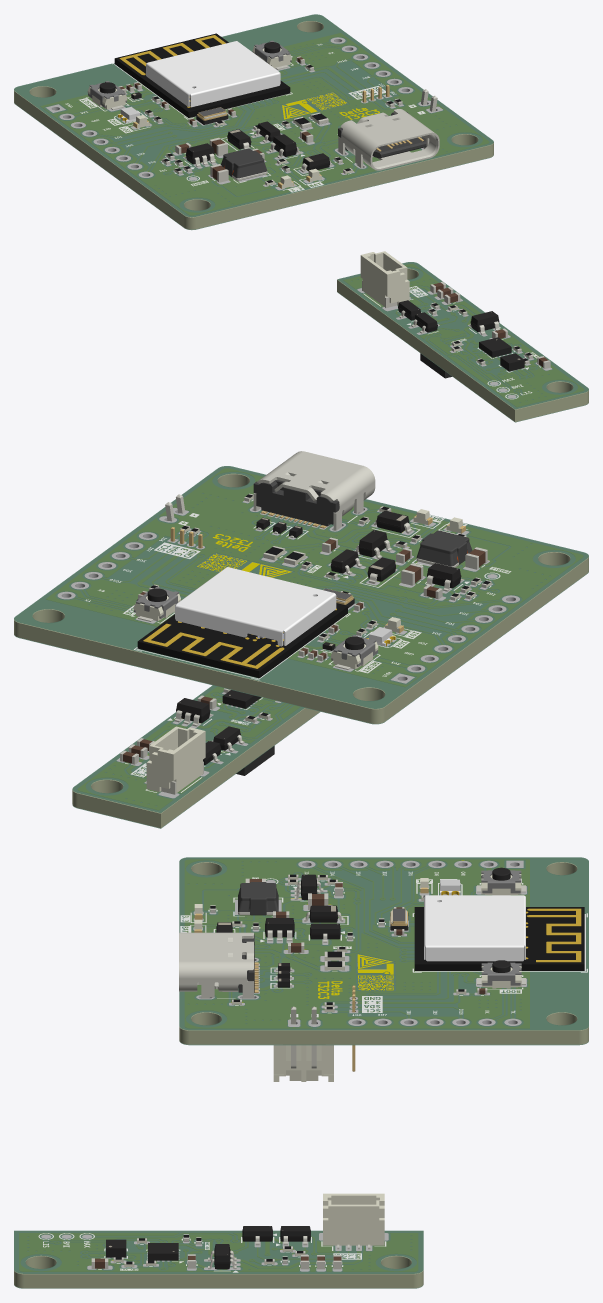
The model's file is deltat32.glb.
3 renders of one model, top to bottom at view 1: azimuth 30°, elevation 25°; view 2: azimuth 150°, elevation 25°; view 3: azimuth 270°, elevation 25°, orthographic. The views are drawn at different scales.
Parts seen in each view (by area): view 1: c3_soldermask_top, c3_pcb, c3_copper, U1, bmi_soldermask_top, bmi_pcb, J3, bmi_copper, c3_pads, J41, c3_silkscreen_top, L1 (+5 smaller); view 2: c3_soldermask_top, c3_pcb, c3_copper, U1, bmi_soldermask_top, J3, bmi_pcb, c3_pads, J41, bmi_copper, c3_silkscreen_top, L1 (+10 smaller); view 3: c3_soldermask_top, c3_pcb, c3_copper, bmi_soldermask_top, U1, bmi_pcb, bmi_copper, J3, c3_pads, J41, J2, c3_silkscreen_top (+10 smaller).
Part boxes in pixels (<box>): c3_soldermask_top: <box>14,14,493,217</box>; c3_pcb: <box>14,15,493,229</box>; c3_copper: <box>41,33,488,214</box>; U1: <box>114,33,290,117</box>; bmi_soldermask_top: <box>337,262,588,409</box>; bmi_pcb: <box>337,263,588,421</box>; J3: <box>338,109,439,170</box>; bmi_copper: <box>344,264,583,406</box>; c3_pads: <box>46,37,442,190</box>; J41: <box>360,251,409,307</box>; c3_silkscreen_top: <box>65,44,425,192</box>; L1: <box>221,148,267,180</box>; c3_soldermask_top: <box>14,466,588,708</box>; c3_pcb: <box>14,467,588,723</box>; c3_copper: <box>46,469,582,686</box>; U1: <box>137,567,347,678</box>; bmi_soldermask_top: <box>72,685,304,813</box>; J3: <box>253,451,375,530</box>; bmi_pcb: <box>72,686,319,828</box>; c3_pads: <box>57,498,519,683</box>; J41: <box>146,726,205,794</box>; bmi_copper: <box>78,687,298,809</box>; c3_silkscreen_top: <box>85,499,511,680</box>; L1: <box>416,530,472,567</box>; c3_soldermask_top: <box>179,857,588,1030</box>; c3_pcb: <box>179,858,588,1044</box>; c3_copper: <box>185,860,529,1027</box>; bmi_soldermask_top: <box>14,1230,423,1273</box>; U1: <box>414,895,584,970</box>; bmi_pcb: <box>14,1231,423,1288</box>; bmi_copper: <box>19,1233,417,1271</box>; J3: <box>179,932,258,998</box>; c3_pads: <box>193,860,526,1026</box>; J41: <box>323,1193,384,1249</box>; J2: <box>273,1006,333,1081</box>; c3_silkscreen_top: <box>180,871,587,1017</box>.
Bounding box in the file's own units: 0.043 × 0.0315 × 0.0562.
